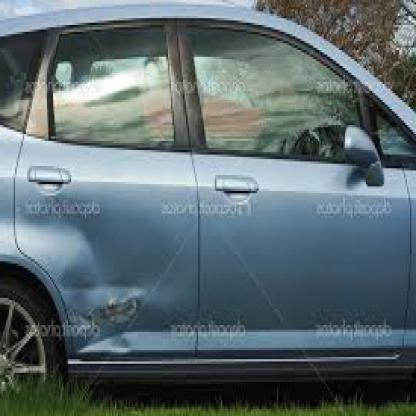dent: (68, 182, 150, 348)
